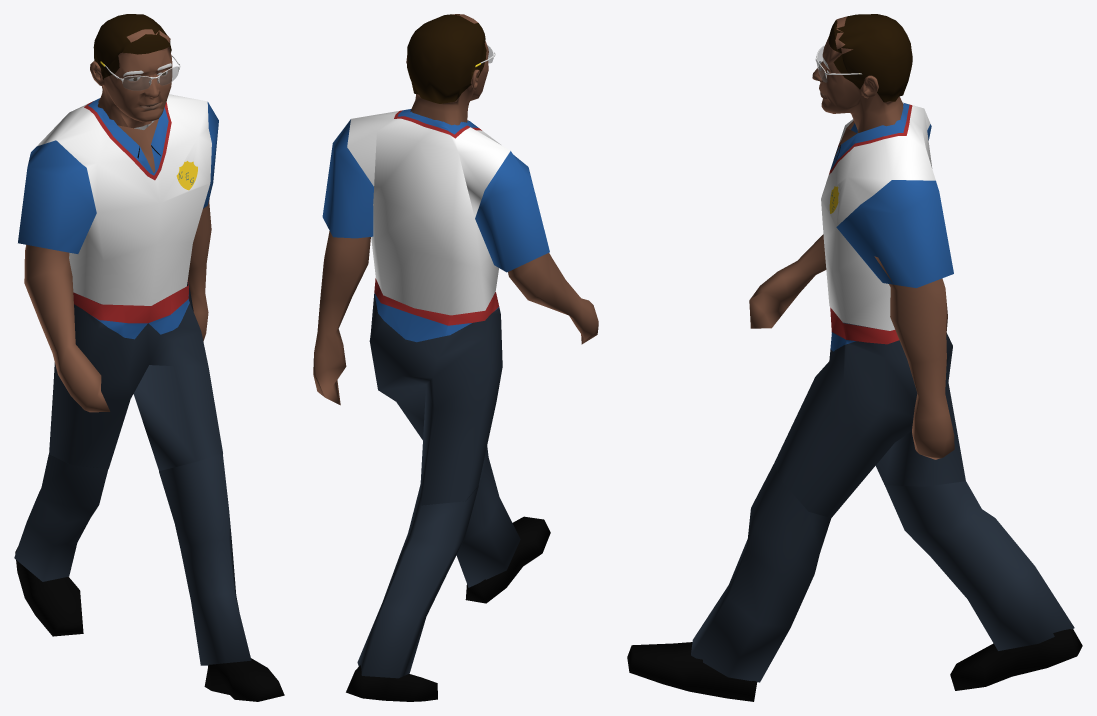
File: male1.dae
3 views of the same model, side by side, from view 1: azimuth 30°, elevation 25°; view 2: azimuth 150°, elevation 25°; view 3: azimuth 270°, elevation 25° (orthographic). The views are drawn at different scales.
Visible parts, largest first — view 1: shirt-3_001, shorts-3_001, pants-3_001, download?mid=c6fbd38a69d007c77d26bf628bf6191a&ctyp=sm&cv=p8., Group_001, shoes-3_001; view 2: shirt-3_001, shorts-3_001, pants-3_001, download?mid=c6fbd38a69d007c77d26bf628bf6191a&ctyp=sm&cv=p8., Group_001, shoes-3_001; view 3: pants-3_001, shirt-3_001, shorts-3_001, download?mid=c6fbd38a69d007c77d26bf628bf6191a&ctyp=sm&cv=p8., Group_001, shoes-3_001.
Part boxes in pixels (x1,y1,x2,y2): shirt-3_001: (18, 94, 218, 305); shorts-3_001: (49, 280, 222, 470); pants-3_001: (14, 453, 251, 665); download?mid=c6fbd38a69d007c77d26bf628bf6191a&ctyp=sm&cv=p8.: (24, 183, 211, 412); Group_001: (90, 14, 172, 128); shoes-3_001: (15, 547, 284, 701); shirt-3_001: (322, 109, 549, 315); shorts-3_001: (369, 278, 502, 505); pants-3_001: (357, 446, 520, 678); download?mid=c6fbd38a69d007c77d26bf628bf6191a&ctyp=sm&cv=p8.: (313, 231, 598, 405); Group_001: (406, 14, 488, 125); shoes-3_001: (346, 516, 550, 701); pants-3_001: (691, 464, 1074, 682); shirt-3_001: (821, 102, 953, 330); shorts-3_001: (773, 307, 965, 517); download?mid=c6fbd38a69d007c77d26bf628bf6191a&ctyp=sm&cv=p8.: (749, 234, 954, 459); Group_001: (812, 14, 912, 132); shoes-3_001: (627, 629, 1082, 701).
Bounding box in the file's own units: 0.6151 × 1.78 × 1.09.
